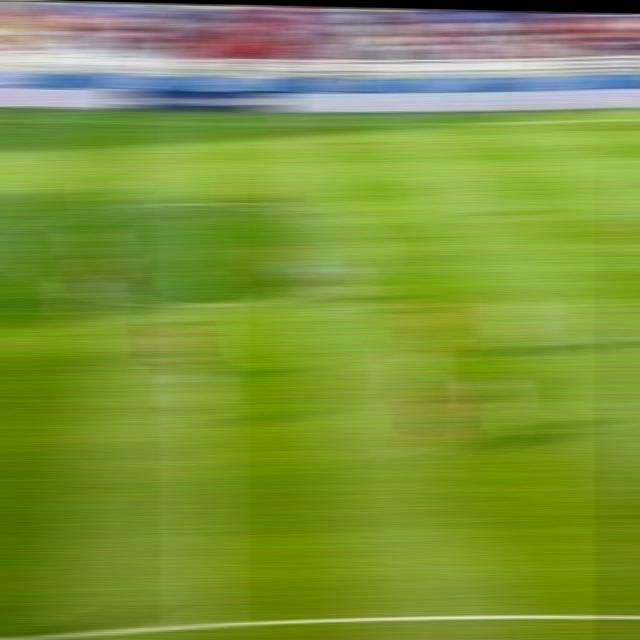halfcircle_bottom: (182, 289, 226, 320)
halfcircle_top: (181, 189, 225, 214)
midline_bottom_intersection: (177, 601, 232, 640)
midline_top_intersection: (184, 114, 221, 133)
